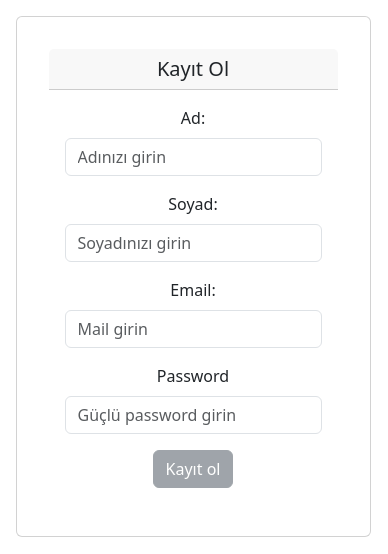
Scenario: Button enabled mı › Girilen bilgiler doğru ise Buton enabled mı
Type "fatih" into the field with test id "input-ad" at (194, 157), box 65,138 -> 322,176
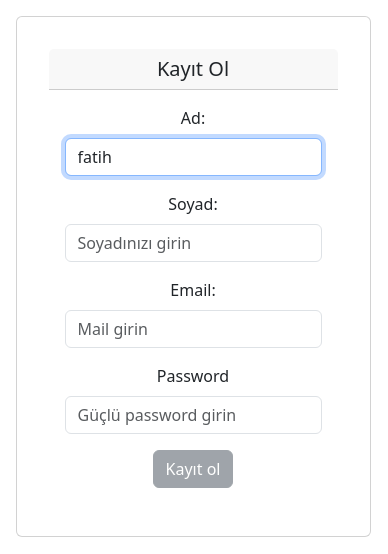
Type "cakmak" into the field with test id "input-soyad" at (194, 243), box 65,224 -> 322,262
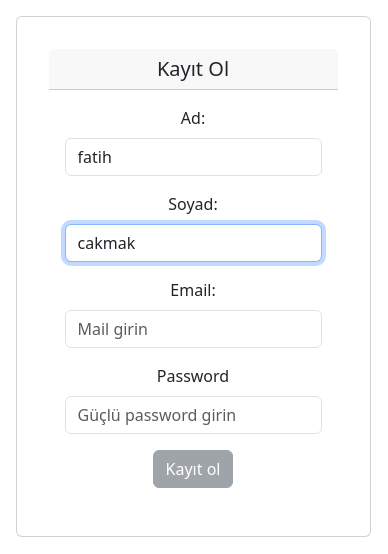
Type "emre@wit.com" into the field with test id "input-email" at (194, 329), box 65,310 -> 322,348
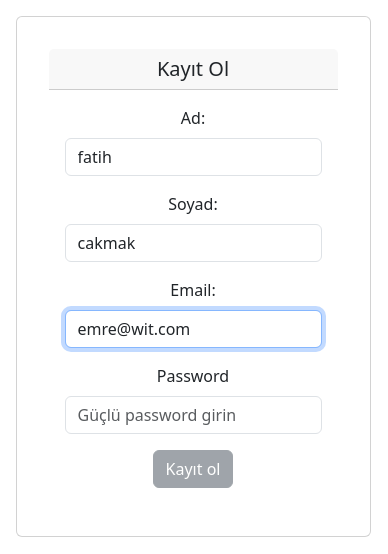
Type "123456Ff*" into the password field with test id "input-password" at (194, 415), box 65,396 -> 322,434
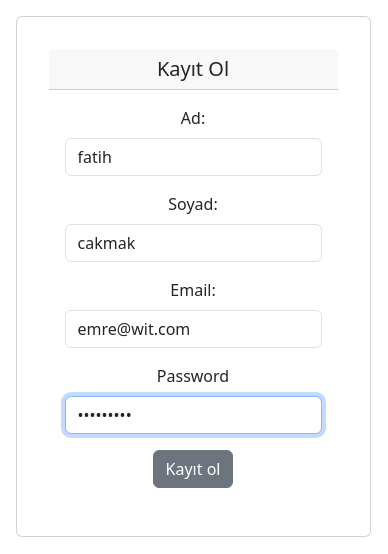
Result: the button with test id "submit-button" is enabled at 153,450 -> 234,488
